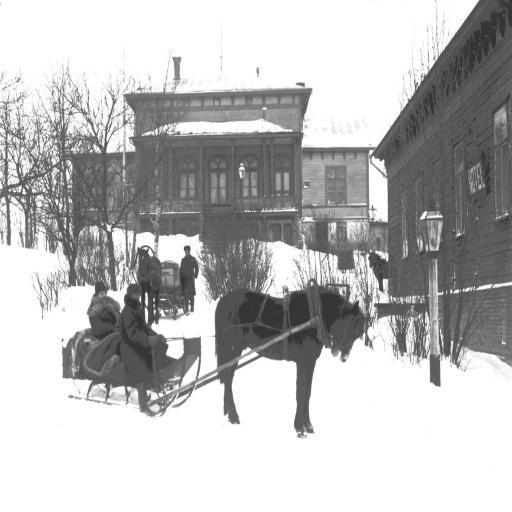horse: (212, 280, 371, 438), (136, 244, 162, 326), (367, 252, 387, 290)
